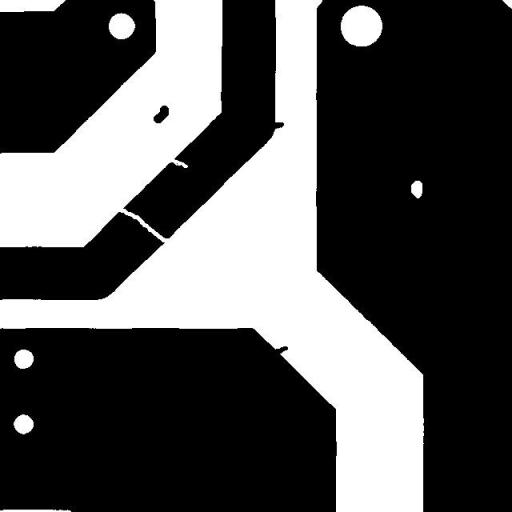copper: (146, 98, 176, 130)
mousebite: (162, 151, 196, 175)
open: (112, 200, 177, 250)
pin-hole: (403, 172, 430, 206)
spur: (264, 338, 295, 362), (262, 114, 291, 137)
